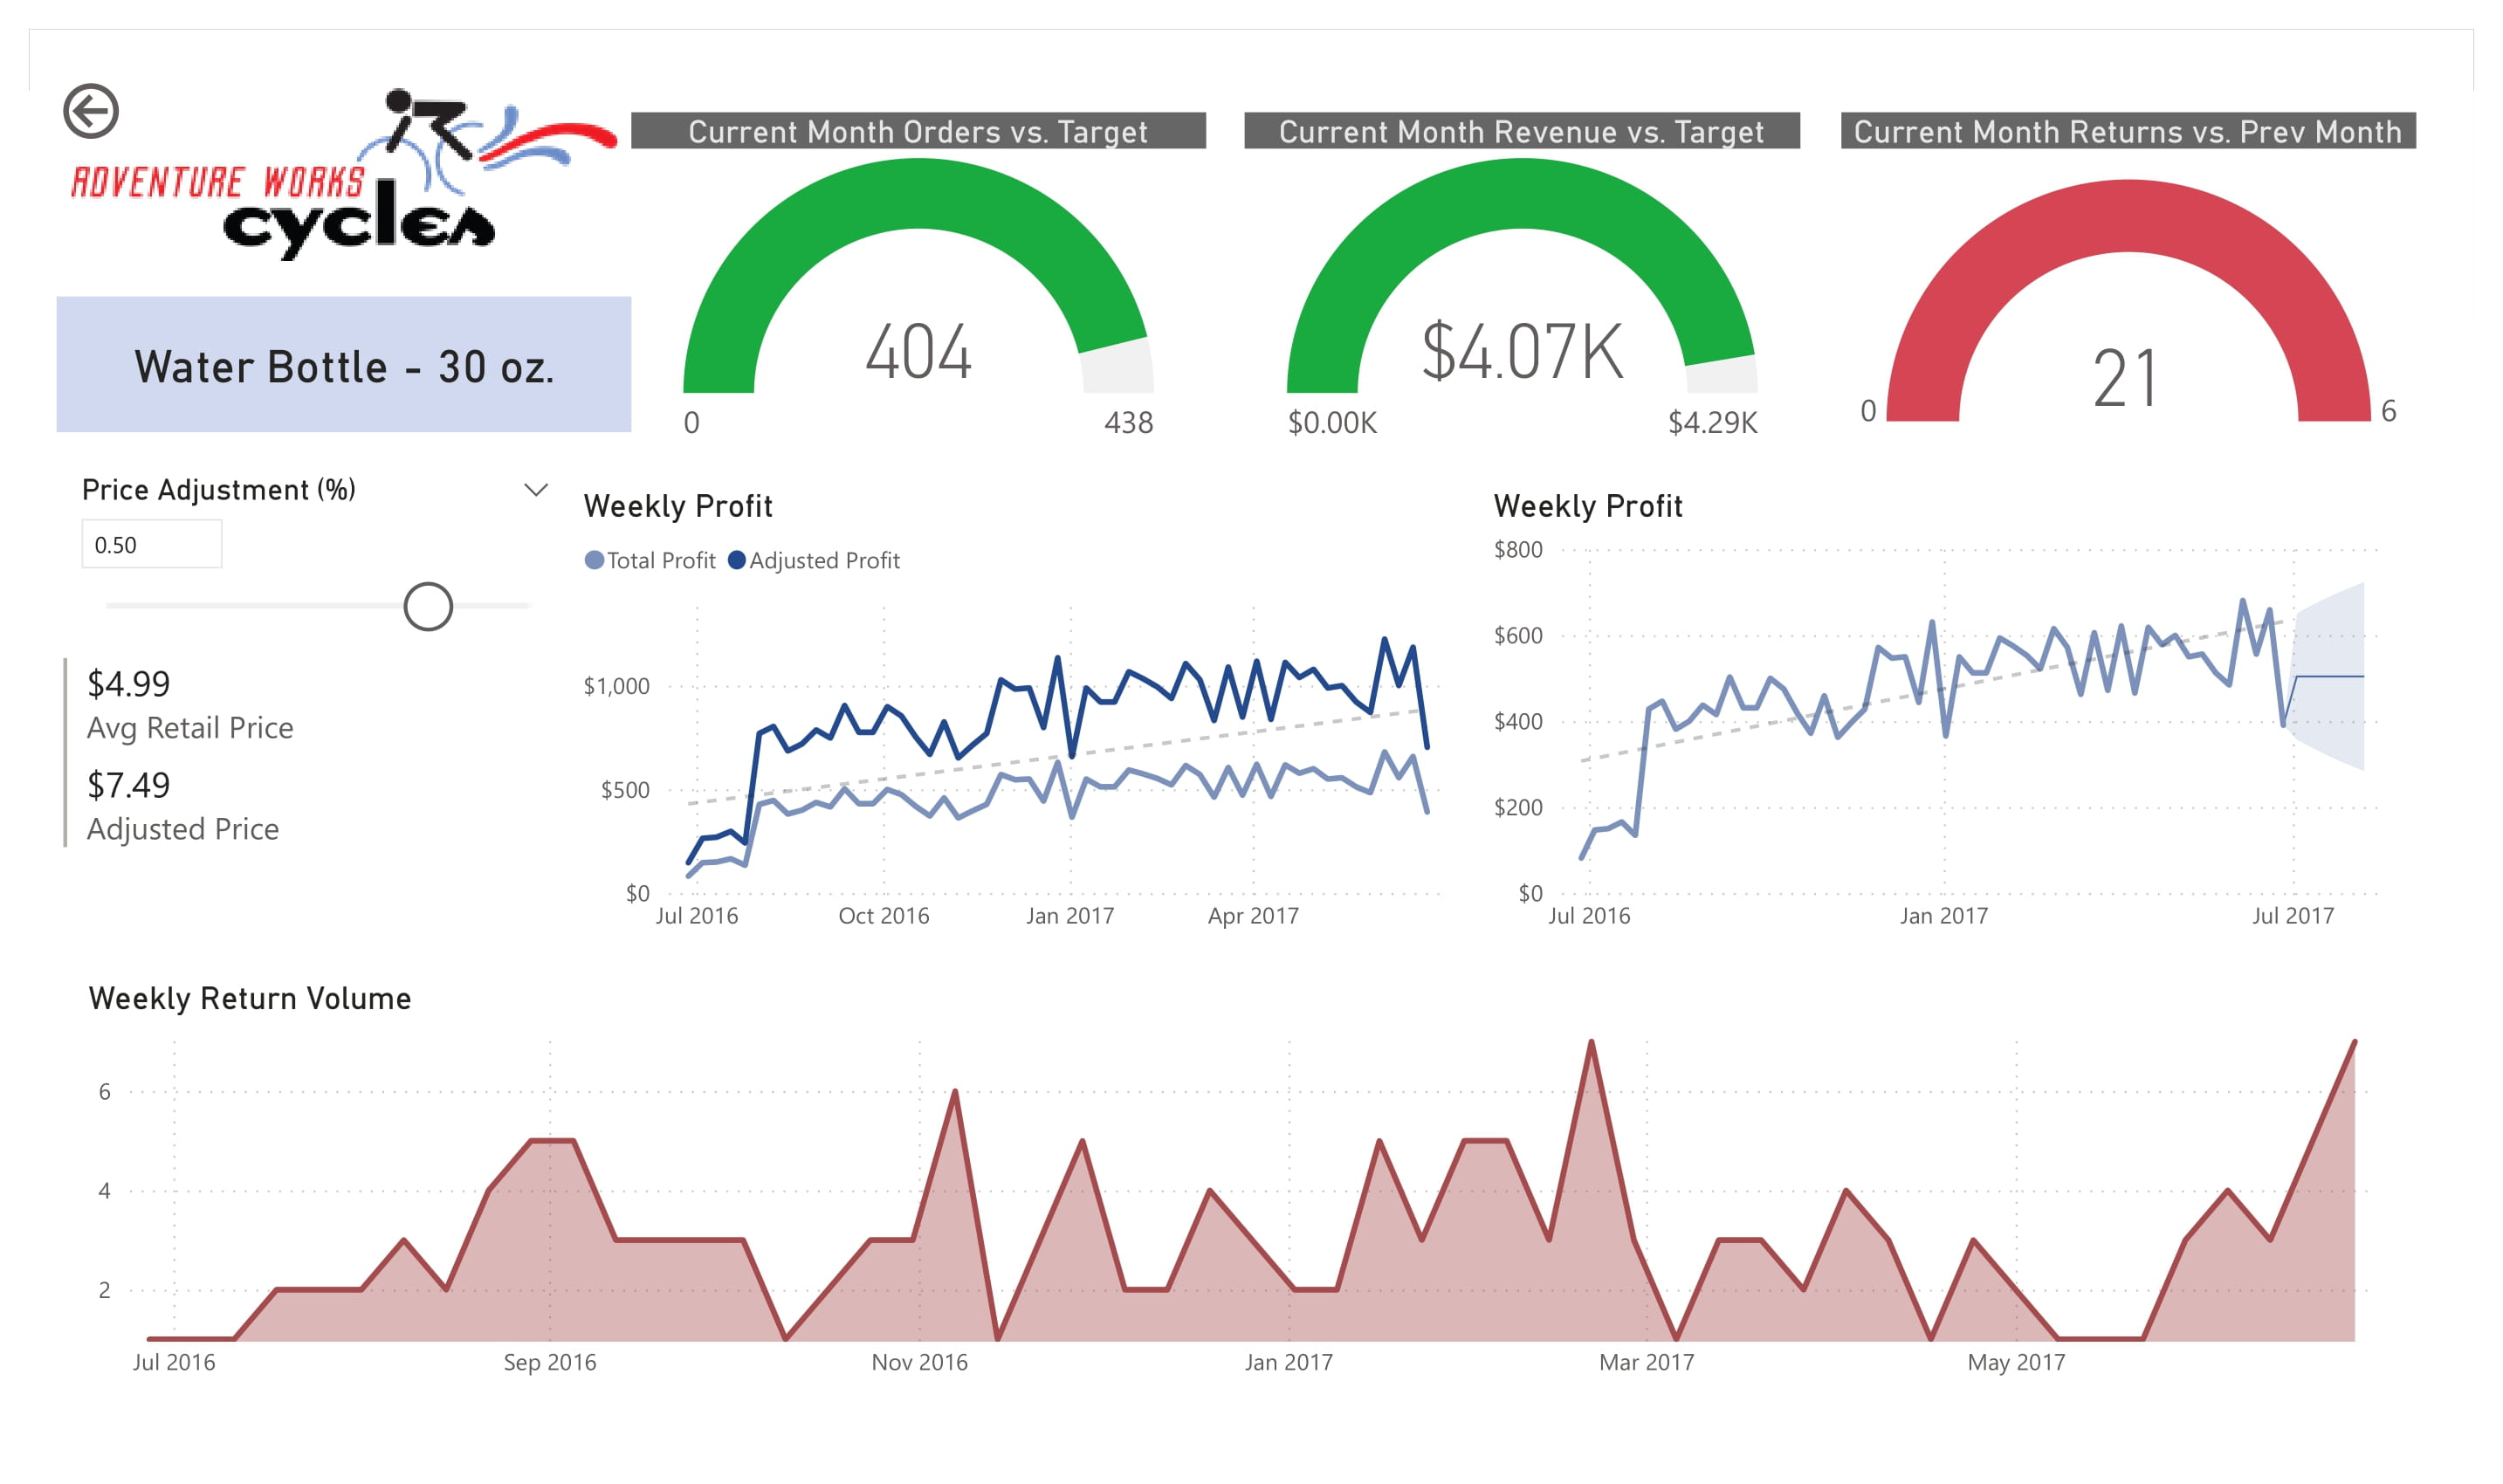

The page's visual inventory and layout, read from the dashboard file:
{"tool":"powerbi","page":{"name":"Product Detail","canvas":[1280,720],"ordinal":1},"visuals":[{"type":"lineChart","title":"Weekly Profit","fields":{"Category":["AW_Calendar_Lookup.Start of Week"],"Y":["AW_Sales.Total Profit","AW_Sales.Adjusted Profit"]},"box":[285.1,226.1,476.6,243.4],"z":0},{"type":"areaChart","title":"Weekly Return Volume","fields":{"Category":["AW_Calendar_Lookup.Start of Week"],"Y":["AW_Returns.Total Returns"]},"box":[25.9,483.8,1222.6,218.9],"z":1000},{"type":"gauge","title":"Current Month Orders vs. Target","fields":{"MaxValue":["AW_Sales.Order Target"],"Y":["AW_Sales.Total Orders"]},"box":[315.8,30.2,300.7,183.1],"z":2000},{"type":"gauge","title":"Current Month Revenue vs. Target","fields":{"Y":["AW_Sales.Total Revenue "],"MaxValue":["AW_Sales.Revenue Target"]},"box":[636.6,30.2,290.6,183.1],"z":3000},{"type":"gauge","title":"Current Month Returns vs. Prev Month","fields":{"Y":["AW_Returns.Total Returns"],"MaxValue":["AW_Returns.Prev Month Returns"]},"box":[949.1,30.2,300.7,183.1],"z":4000},{"type":"card","fields":{"Values":["Min(AW_Product_Lookup.ProductName)"]},"box":[13.8,126.3,301,70.9],"z":5000},{"type":"actionButton","box":[13.7,10.3,100.8,39.3],"z":6000},{"type":"slicer","fields":{"Values":["Price Adjustment (%).Price Adjustment (%)"]},"box":[14.4,213.1,270.7,158.4],"z":8000},{"type":"multiRowCard","fields":{"Values":["AW_Product_Lookup.Avg Retail Price","AW_Product_Lookup.Adjusted Price"]},"box":[13,311,181.4,135.4],"z":8500},{"type":"lineChart","title":"Weekly Profit","fields":{"Category":["AW_Calendar_Lookup.Start of Week"],"Y":["AW_Sales.Total Profit"]},"box":[761.8,226.1,488.2,243.4],"z":9000},{"type":"image","box":[17.3,0,299.2,126.3],"z":10000}]}

Visuals, with their boxes on the page's 1280x720 design canvas (x1, y1, x2, y2). These are canvas units, not pixel positions in the 2503x1484 screenshot, which may show the page scaled, cropped or inside an application window:
"Weekly Profit" lineChart: x1=285 y1=226 x2=762 y2=470
"Weekly Return Volume" areaChart: x1=26 y1=484 x2=1248 y2=703
"Current Month Orders vs. Target" gauge: x1=316 y1=30 x2=616 y2=213
"Current Month Revenue vs. Target" gauge: x1=637 y1=30 x2=927 y2=213
"Current Month Returns vs. Prev Month" gauge: x1=949 y1=30 x2=1250 y2=213
card - Min(AW_Product_Lookup.ProductName): x1=14 y1=126 x2=315 y2=197
actionButton: x1=14 y1=10 x2=114 y2=50
slicer - Price Adjustment (%).Price Adjustment (%): x1=14 y1=213 x2=285 y2=372
multiRowCard - AW_Product_Lookup.Avg Retail Price x AW_Product_Lookup.Adjusted Price: x1=13 y1=311 x2=194 y2=446
"Weekly Profit" lineChart: x1=762 y1=226 x2=1250 y2=470
image: x1=17 y1=0 x2=316 y2=126
